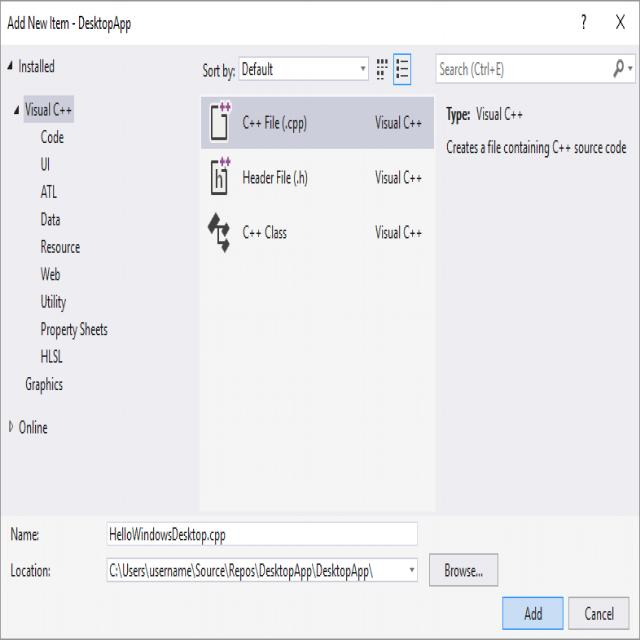button: (202, 206, 433, 264), (202, 149, 434, 205), (201, 94, 434, 148), (430, 554, 498, 586), (502, 596, 564, 630), (569, 599, 629, 630), (612, 4, 630, 39), (374, 52, 391, 86), (394, 54, 411, 85), (576, 8, 592, 40), (611, 56, 625, 81), (626, 55, 634, 81)
field: (108, 522, 418, 545), (107, 558, 417, 581), (437, 54, 636, 83), (240, 56, 368, 80)
